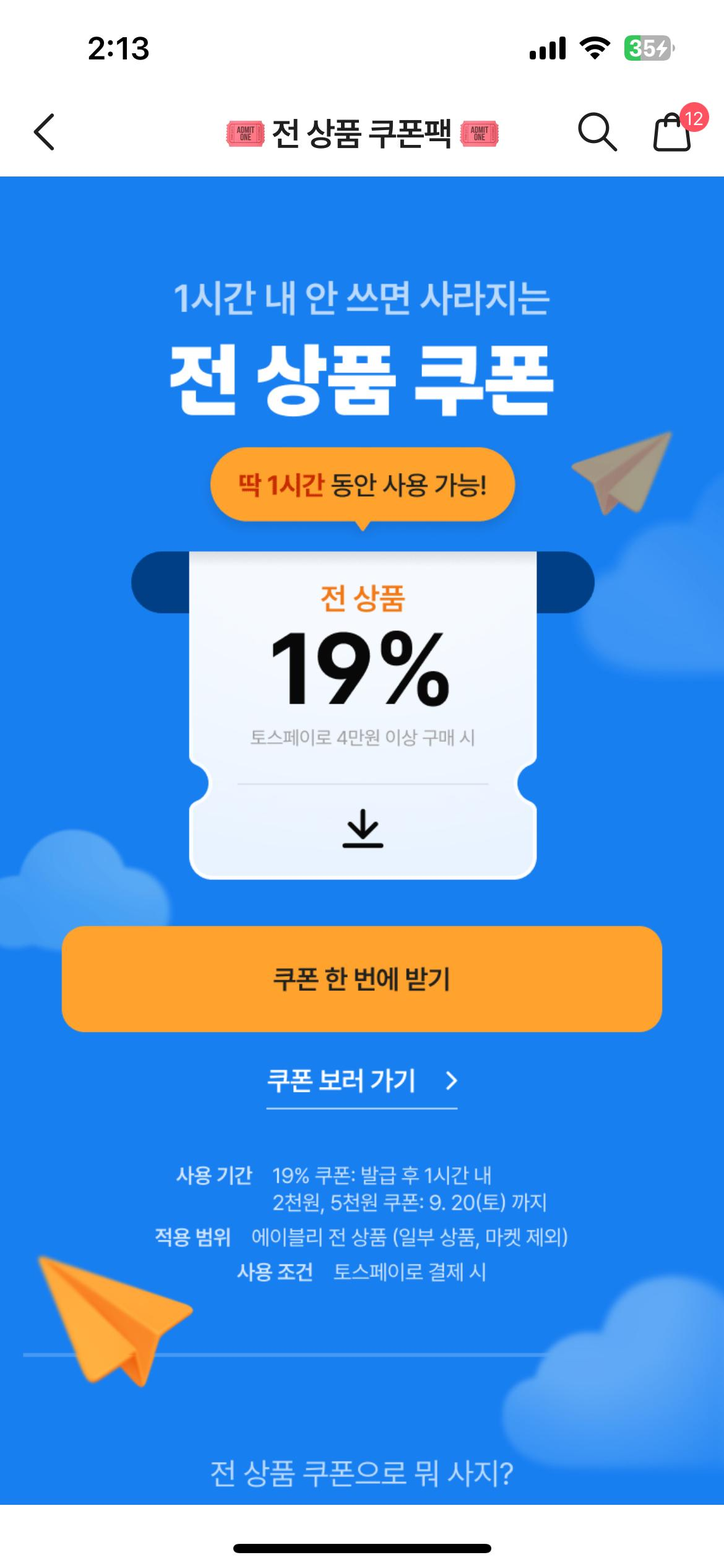button: (56, 931, 664, 1034), (182, 780, 551, 873), (268, 1059, 472, 1104), (21, 107, 136, 171), (567, 109, 621, 165), (635, 114, 712, 153)
